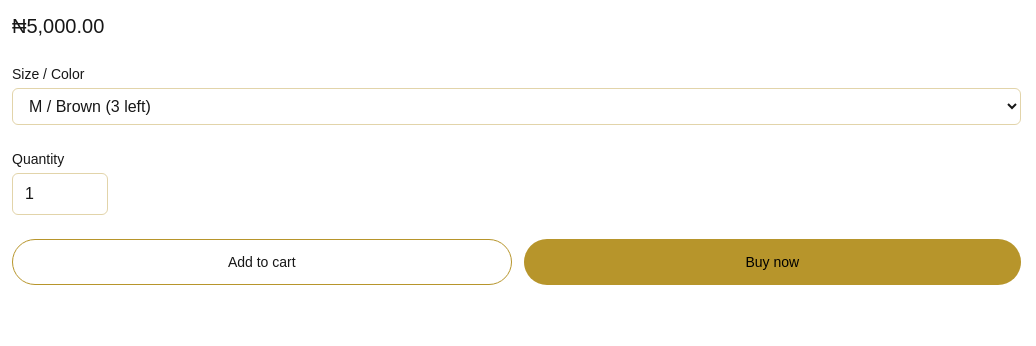
Test: ProductDetailClient › adds the selected variant and quantity to the cart
Click the button "Add to cart": (262, 262) [12,239,512,285]
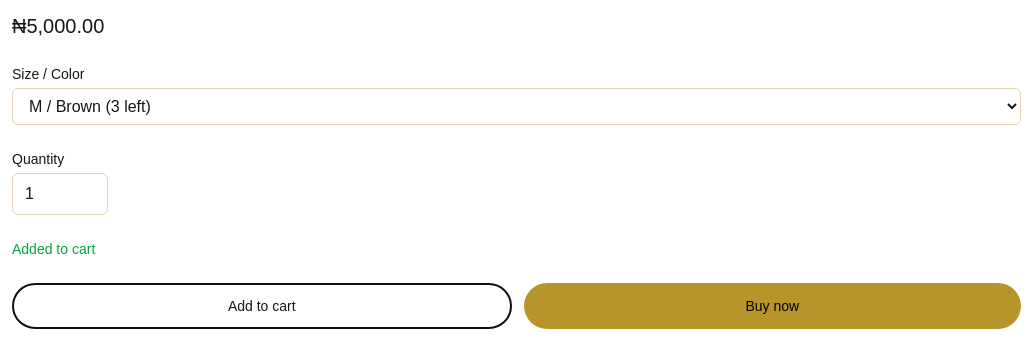
Expected: the text "Added to cart" is shown, [12,241,95,257]
